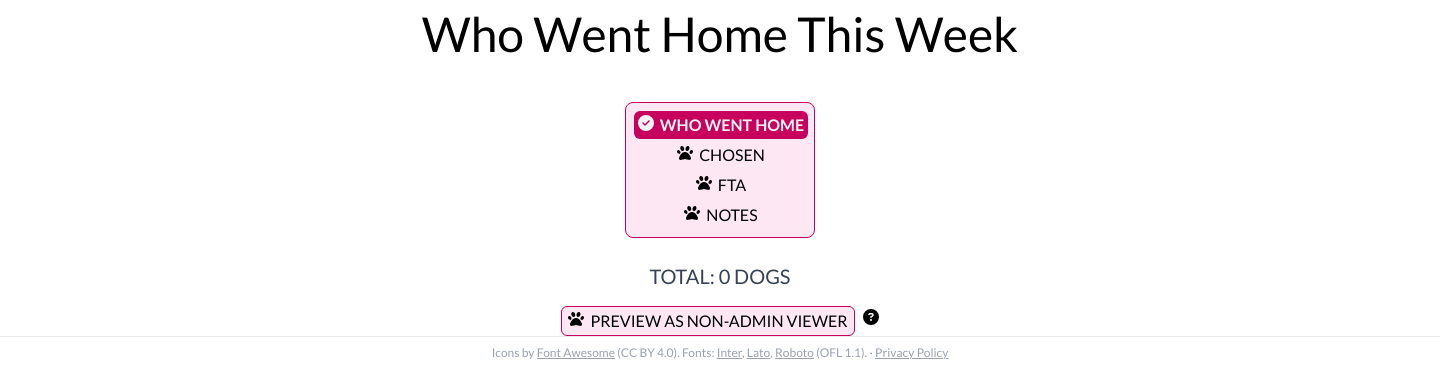
DashboardsApp notes › shows admins the Notes tab with no notes so they can add the first
Click the text "Notes".
click(732, 215)  # box 706,203 -> 758,227
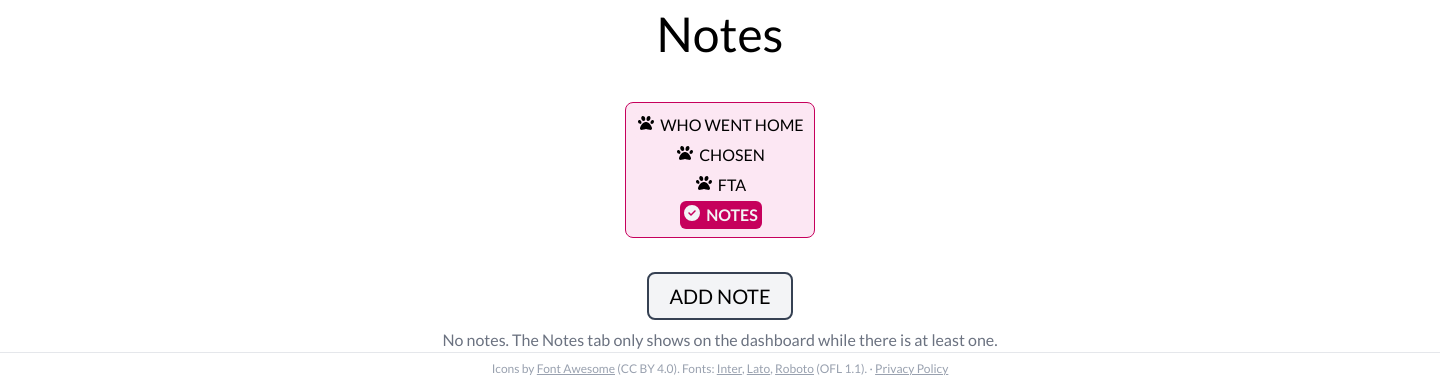
Now the button "Add Note" is shown, box 647,272 -> 792,320
